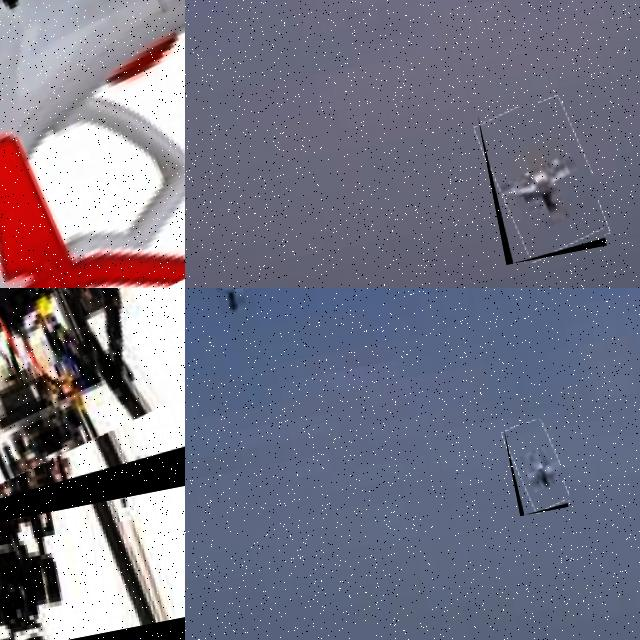0: (478, 95, 607, 265), (504, 418, 568, 516)
drone: (0, 288, 185, 578), (0, 0, 185, 288)
